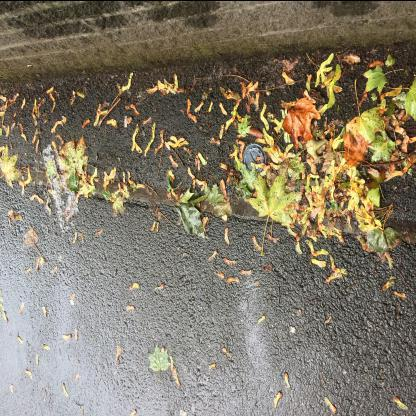plastik: (243, 143, 267, 177)
